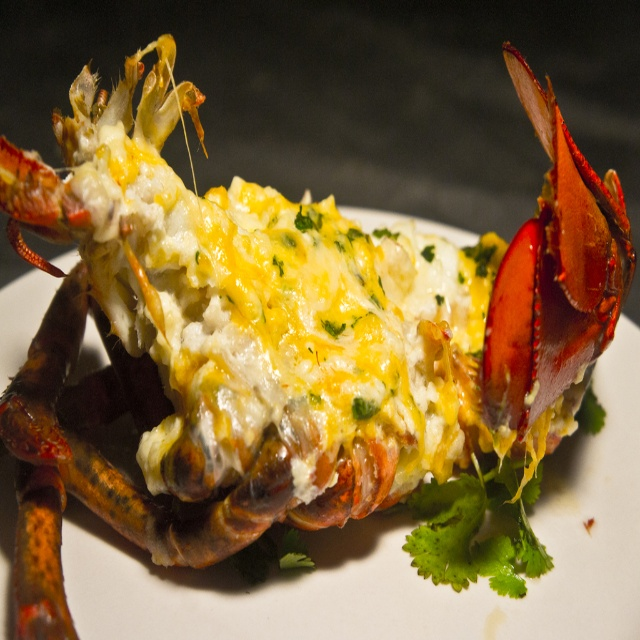Crab: (0, 34, 637, 640)
